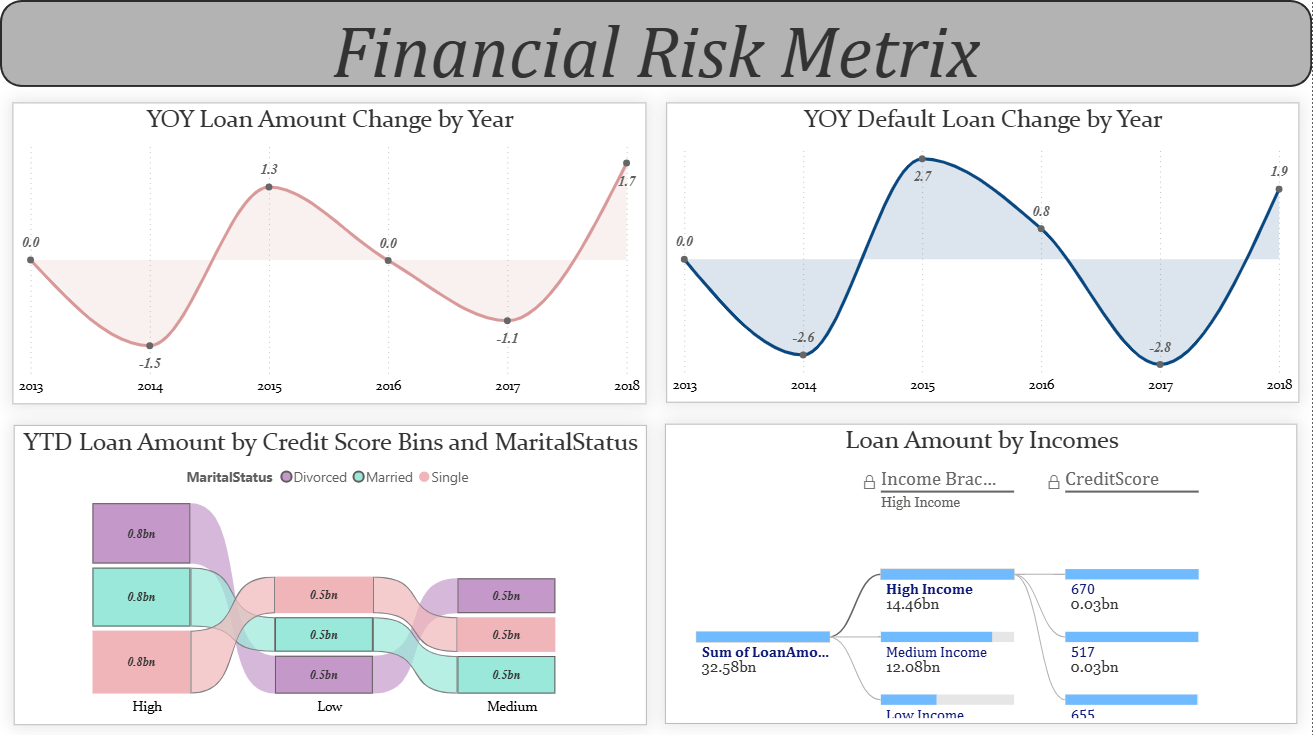

The page's visual inventory and layout, read from the dashboard file:
{"tool":"powerbi","page":{"name":"Page 3","canvas":[1280,720],"ordinal":2},"visuals":[{"type":"shape","title":"Financial Profile","box":[0,0,1280.2,84.9],"z":0},{"type":"lineChart","fields":{"Y":["Measures Table 3.YOY Loan Amount Change"],"Category":["Loan_default.Year"]},"box":[12.4,100.2,618.5,294.4],"z":1000},{"type":"lineChart","fields":{"Y":["Measures Table 3.YOY Default Loan Change"],"Category":["Loan_default.Year"]},"box":[649.4,100.2,617.2,293.2],"z":2000},{"type":"ribbonChart","fields":{"Y":["Measures Table 3.YTD Loan Amount"],"Category":["Loan_default.Credit Score Bins"],"Series":["Loan_default.MaritalStatus"]},"box":[13.6,414.4,617.2,293.2],"z":3000},{"type":"decompositionTreeVisual","title":"Loan Amount by Incomes","fields":{"Analyze":["Sum(Loan_default.LoanAmount)"],"ExplainBy":["Loan_default.Income Bracket","Loan_default.CreditScore"]},"box":[649,414,617,293],"z":4000}]}

Visuals, with their boxes in screenshot pixels (x1, y1, x2, y2), scaled from the page's 1280x720 canvas onto the 1313x735 screenshot:
"Financial Profile" shape: 0:0:1312:87
lineChart - Measures Table 3.YOY Loan Amount Change x Loan_default.Year: 13:102:647:403
lineChart - Measures Table 3.YOY Default Loan Change x Loan_default.Year: 666:102:1299:402
ribbonChart - Measures Table 3.YTD Loan Amount x Loan_default.Credit Score Bins: 14:423:647:722
"Loan Amount by Incomes" decompositionTreeVisual: 666:423:1299:722
